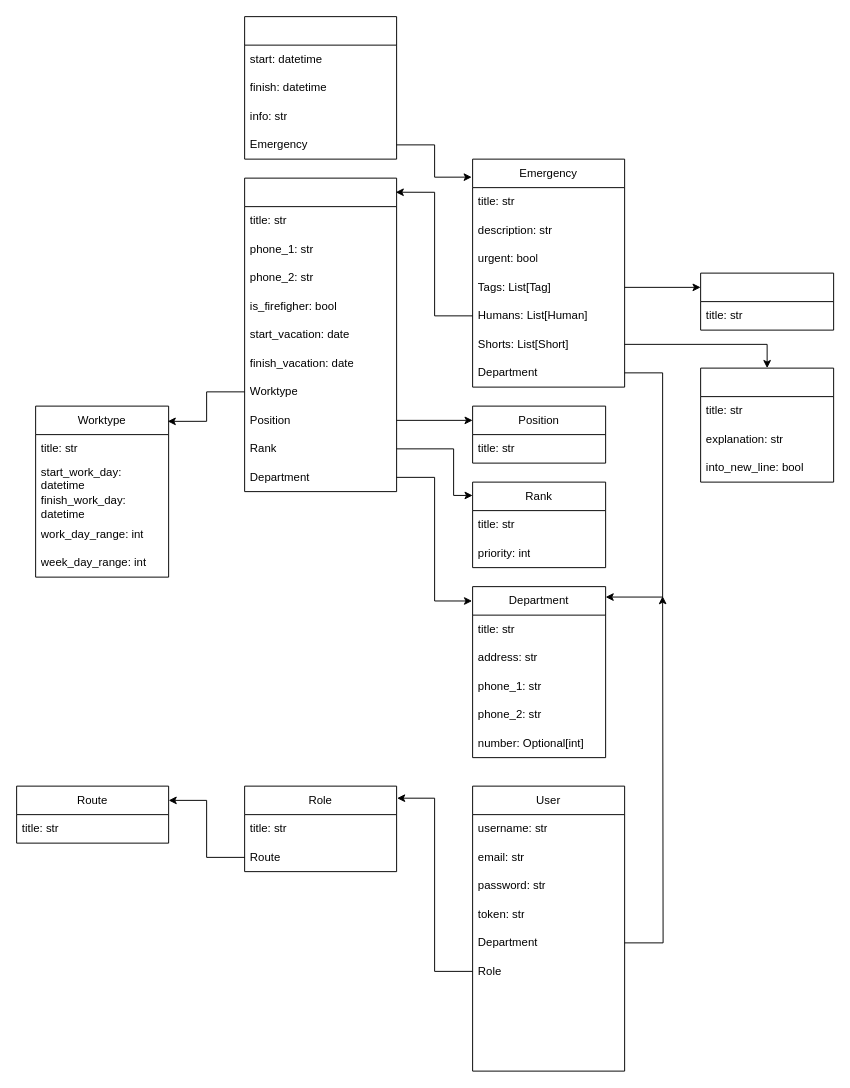
Image size: 850x1088. Some labels were removed from this diagram. The box of each missing label's shape, as (x1, y1, x2, y2) in pixels:
Call: (244, 16, 397, 159)
Human: (244, 177, 397, 492)
Short: (700, 367, 834, 482)
Tag: (700, 272, 834, 330)
